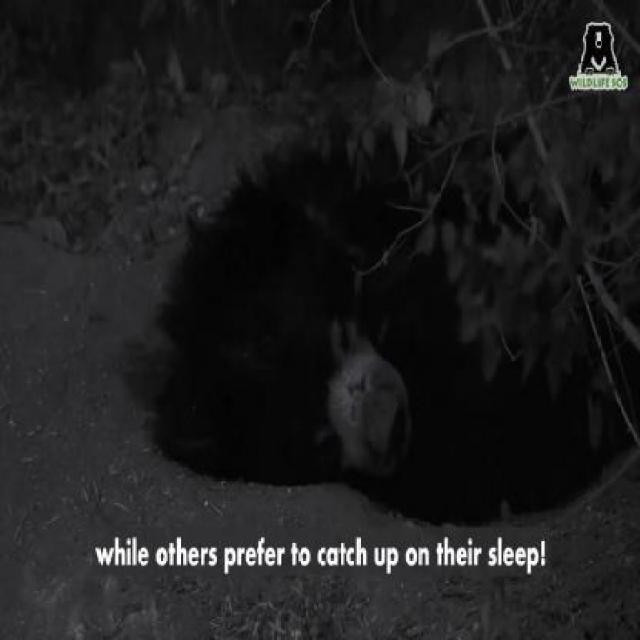Bear: (140, 115, 605, 537)
